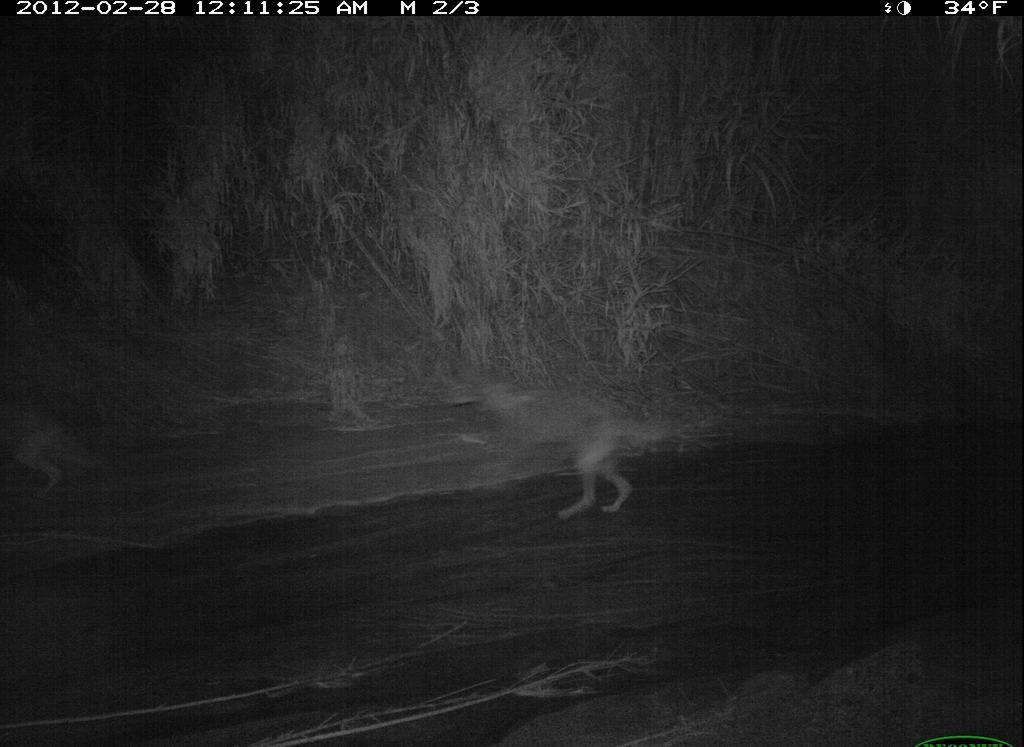coyote: (454, 360, 664, 541)
